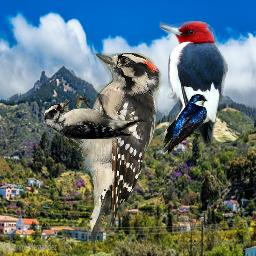Swallow: (161, 94, 208, 154)
Woodpecker: (64, 53, 163, 255), (159, 17, 228, 151), (44, 94, 147, 139)
